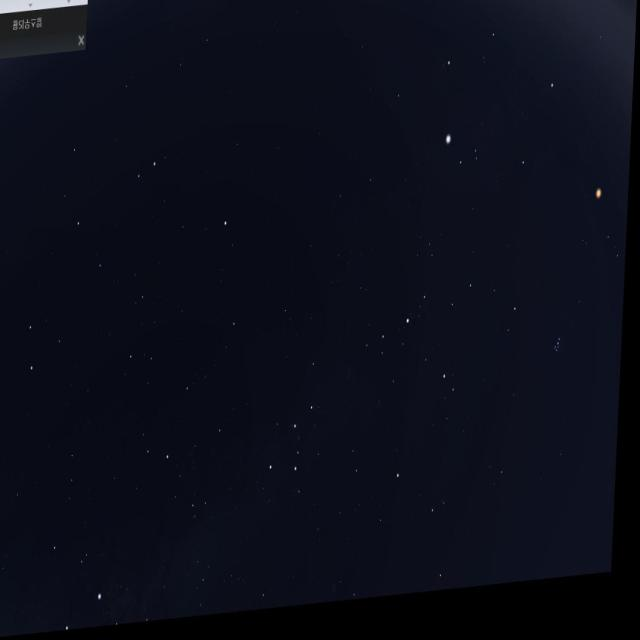cassiopeia: (266, 340, 337, 513)
pleiades: (550, 334, 574, 381)
